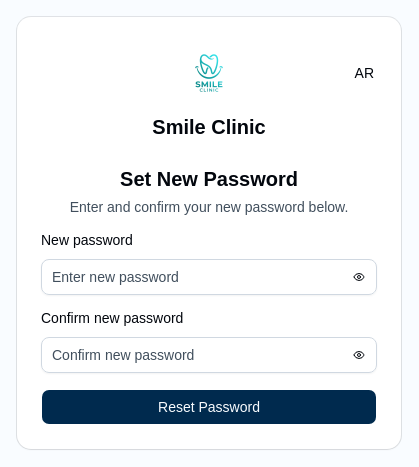
Scenario: ResetPasswordPage validation and errors (US3) › toggle shows/hides confirmPassword field independently (RP-VT-024)
In the password field labelled "Confirm new password": (209, 355) left=41, top=337, right=377, bottom=373, type "mySecret123"
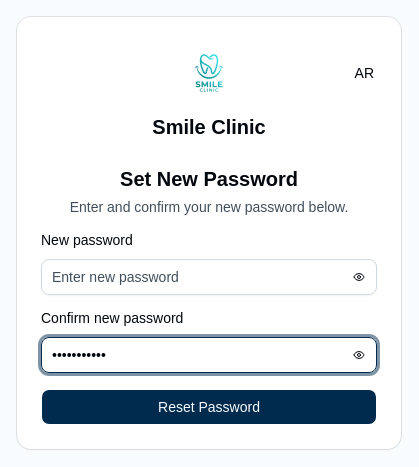
Click the button named "show confirm password": (359, 355) left=347, top=343, right=371, bottom=367
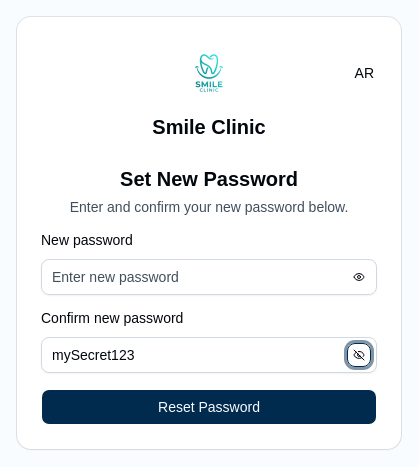
Now the field labelled "Confirm new password" shows its text, box left=41, top=337, right=377, bottom=373
